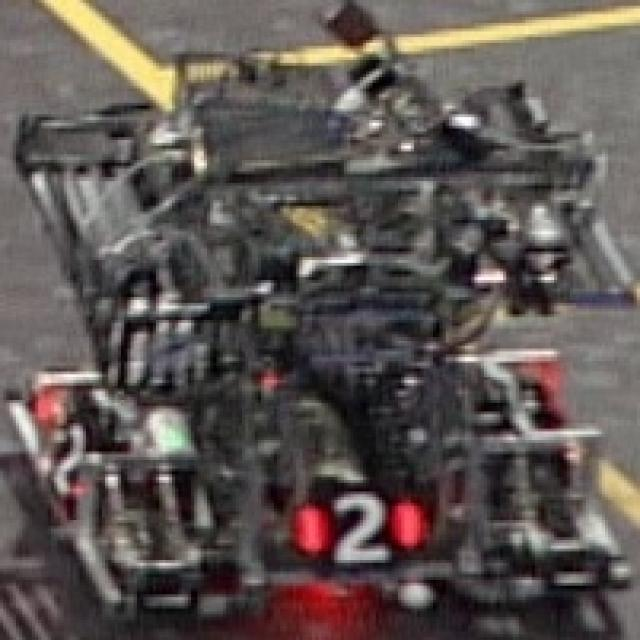R2: (290, 477, 430, 569)
